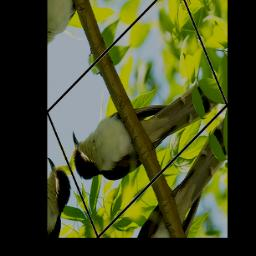Cuckoo: (64, 15, 222, 228)
